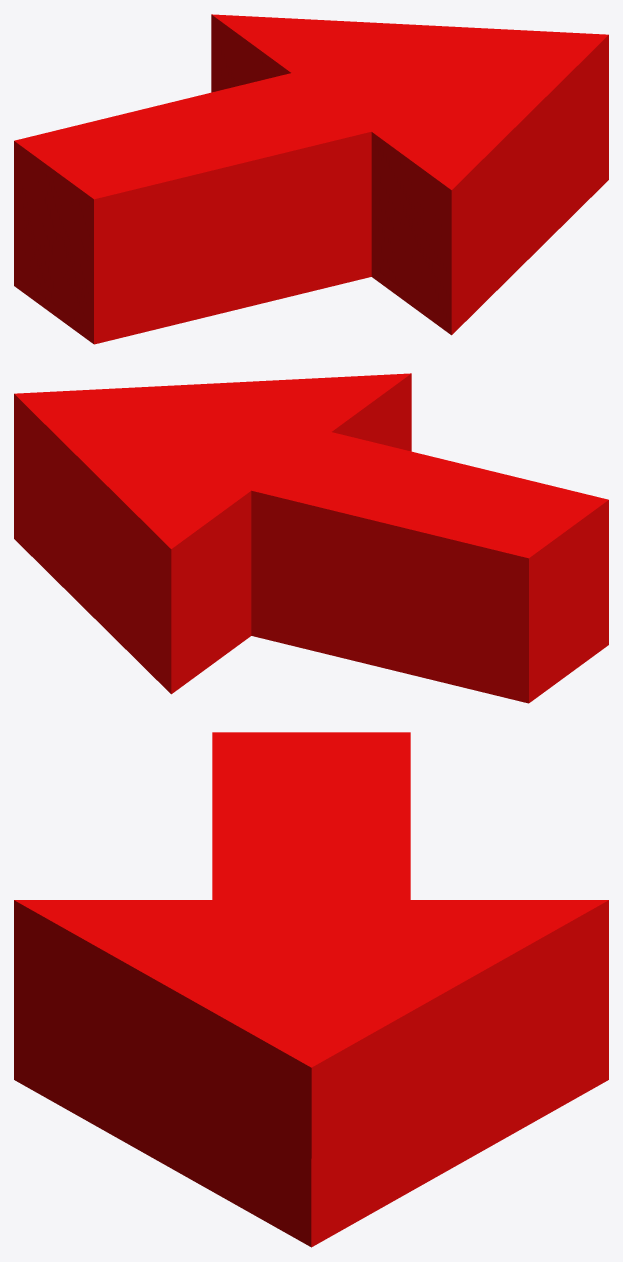
Rendered from Arrow.fbx.
3 renders of one model, top to bottom at view 1: azimuth 30°, elevation 25°; view 2: azimuth 150°, elevation 25°; view 3: azimuth 270°, elevation 25°, orthographic. The views are drawn at different scales.
Parts seen in each view (by area): view 1: Cube.001; view 2: Cube.001; view 3: Cube.001.
Part boxes in pixels (x1,y1,x2,y2): Cube.001: (14,14,608,344); Cube.001: (14,373,608,703); Cube.001: (14,732,608,1247).
Size of the model in its own units: 400 by 100 by 300.
